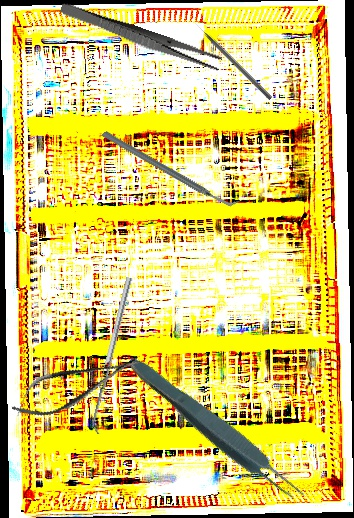Chopper: (100, 92, 241, 245)
Dressing Forceps: (57, 0, 224, 74)
Hook Surgical: (191, 19, 274, 101)
Micro Scissor: (5, 342, 147, 428)
Spatula Surgical: (87, 276, 139, 435)
Tissue Forceps: (119, 348, 313, 513)
